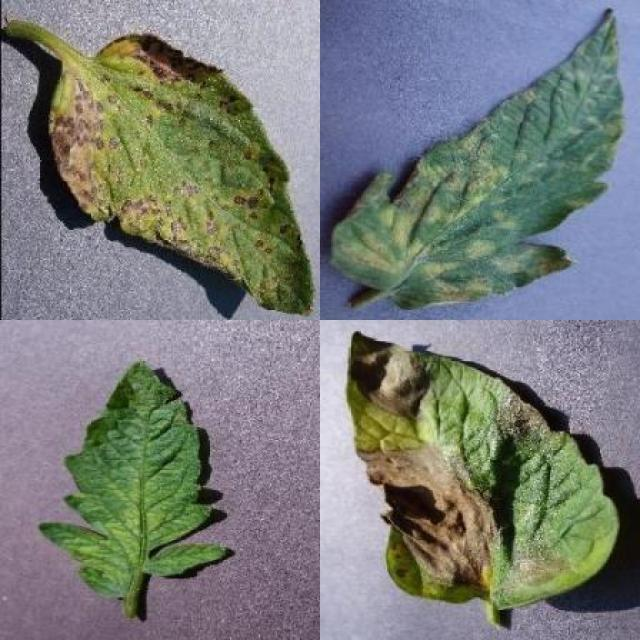Late Blight: (346, 327, 621, 610)
Leaf Mold: (332, 10, 624, 310)
Mosaic Virus: (36, 357, 226, 603)
Septoria: (45, 34, 315, 316)
